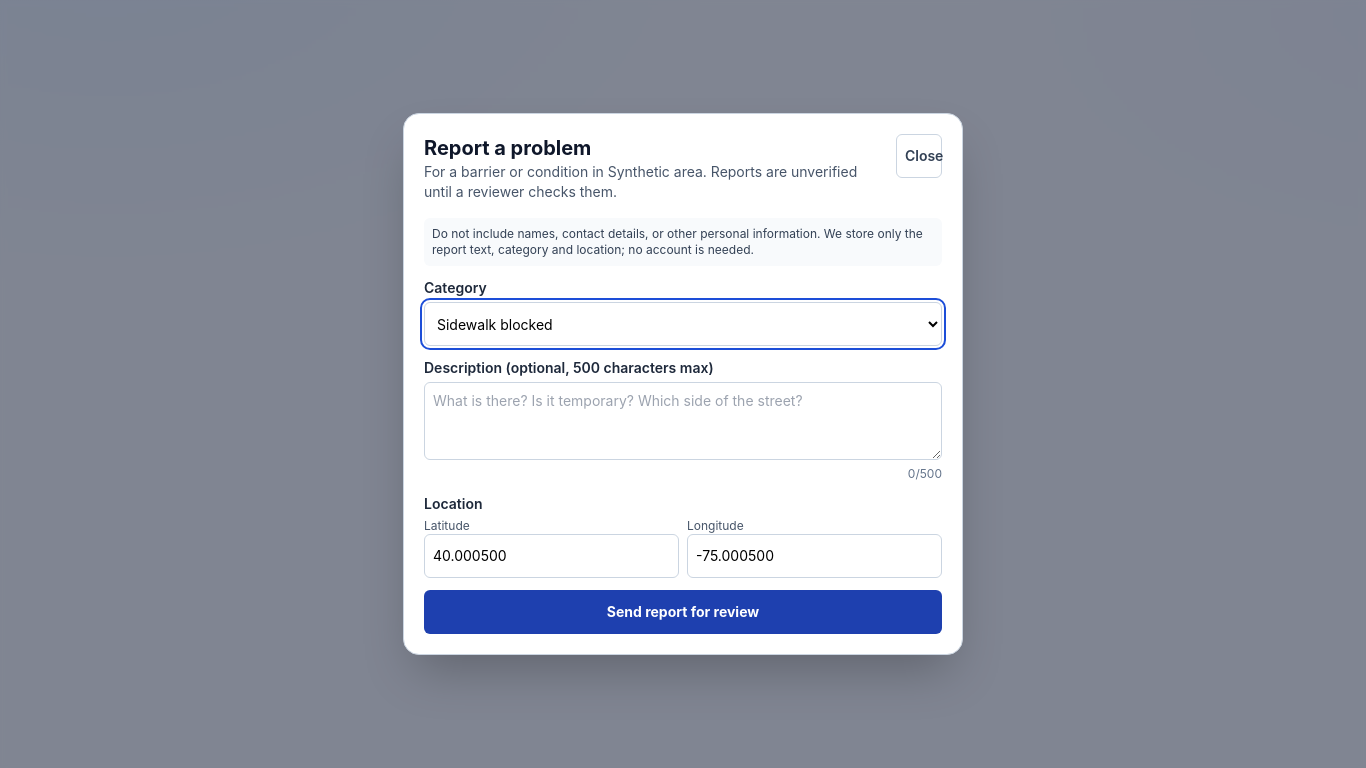
Test: ReportDialog › submits category, description and coordinates
Expected: the heading "Report a problem" is shown, [424, 136, 591, 160]
Select "Construction" in the dropdown labelled "Category": [683, 324] box [424, 302, 942, 346]
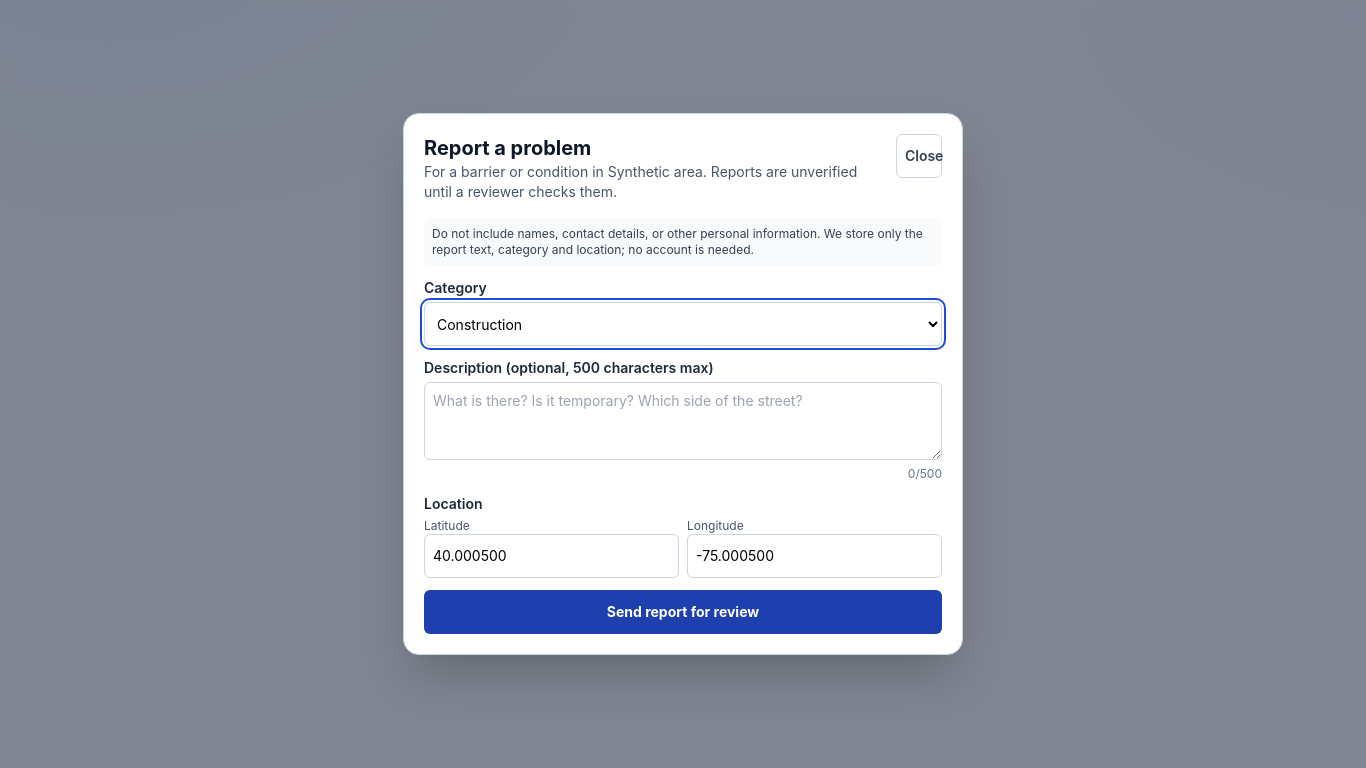
In the text box labelled "Description (optional, 500 characters max)": [683, 421] box [424, 382, 942, 460], type "Sidewalk closed by construction."
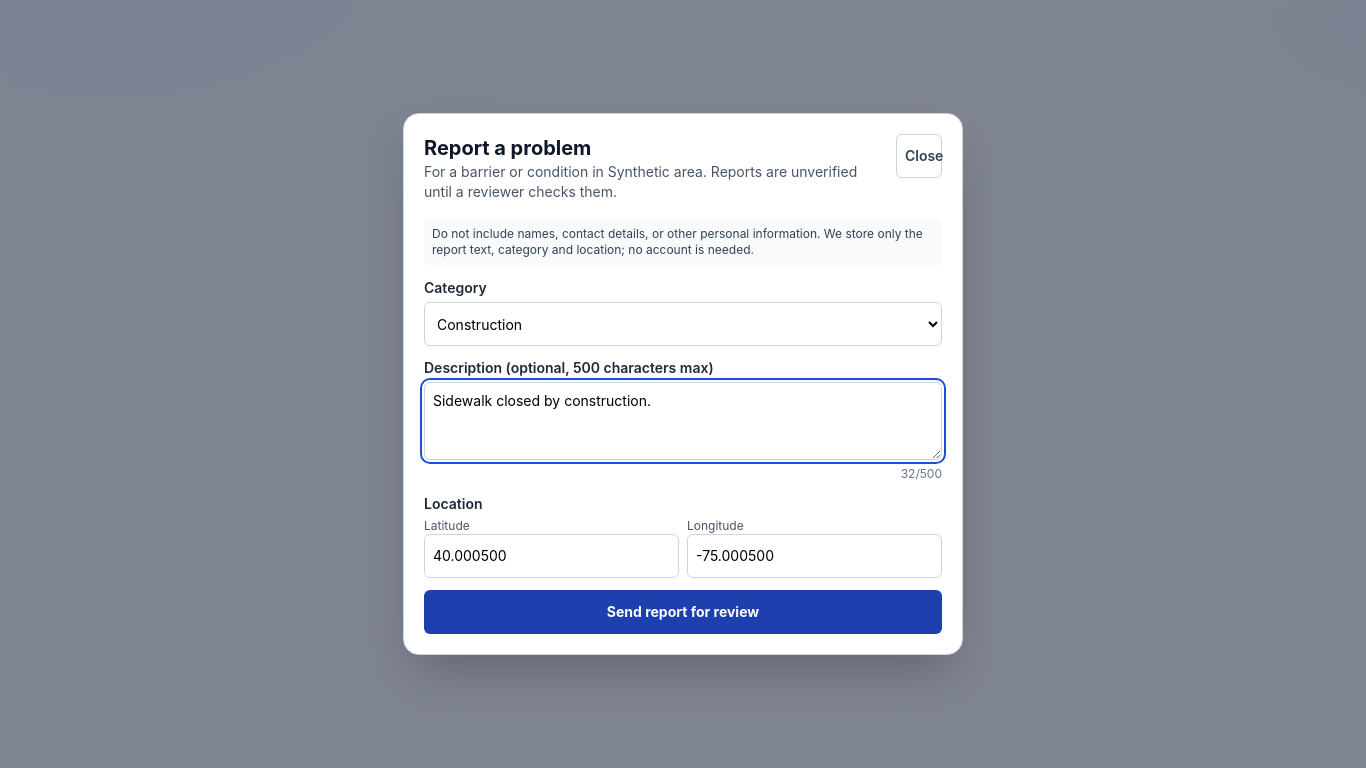
Click the button "Send report for review": [683, 612] box [424, 590, 942, 634]
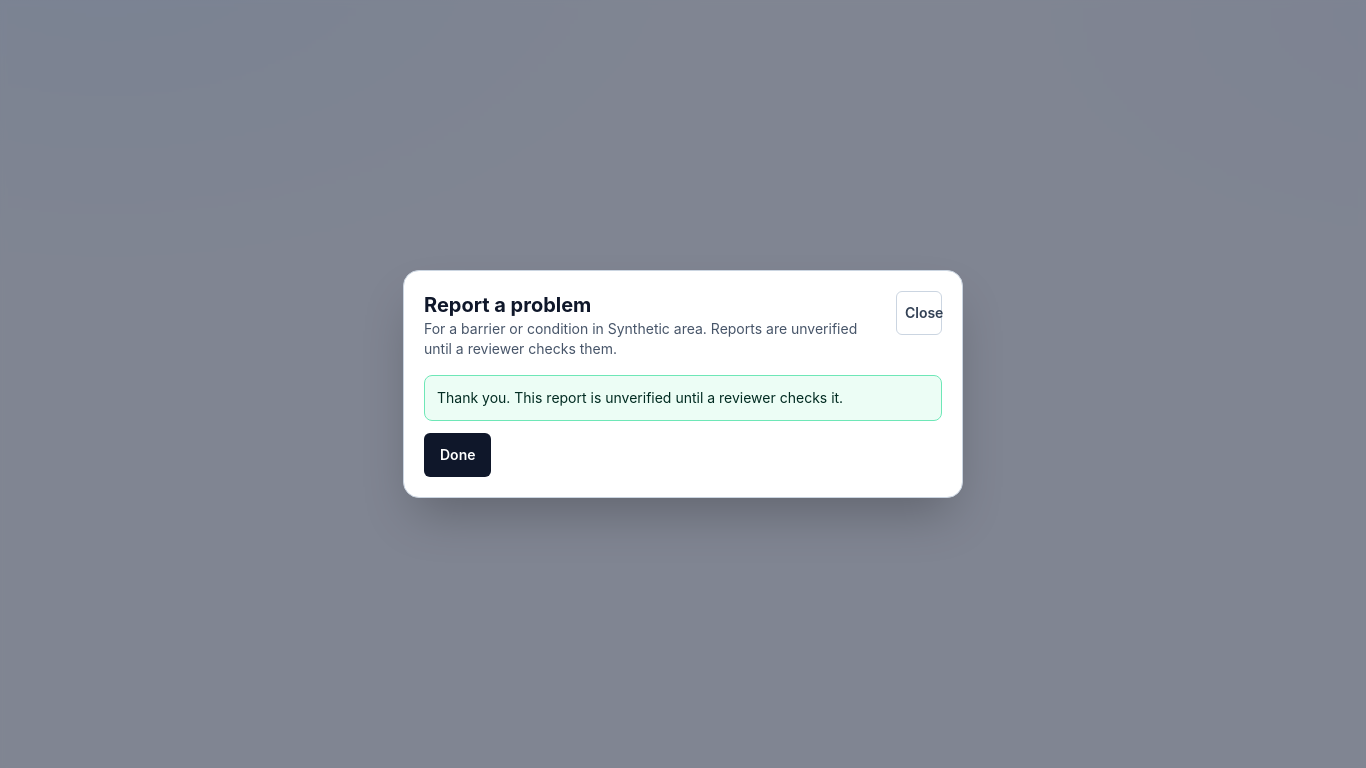
Now the message shows "unverified", box [437, 389, 843, 406]
